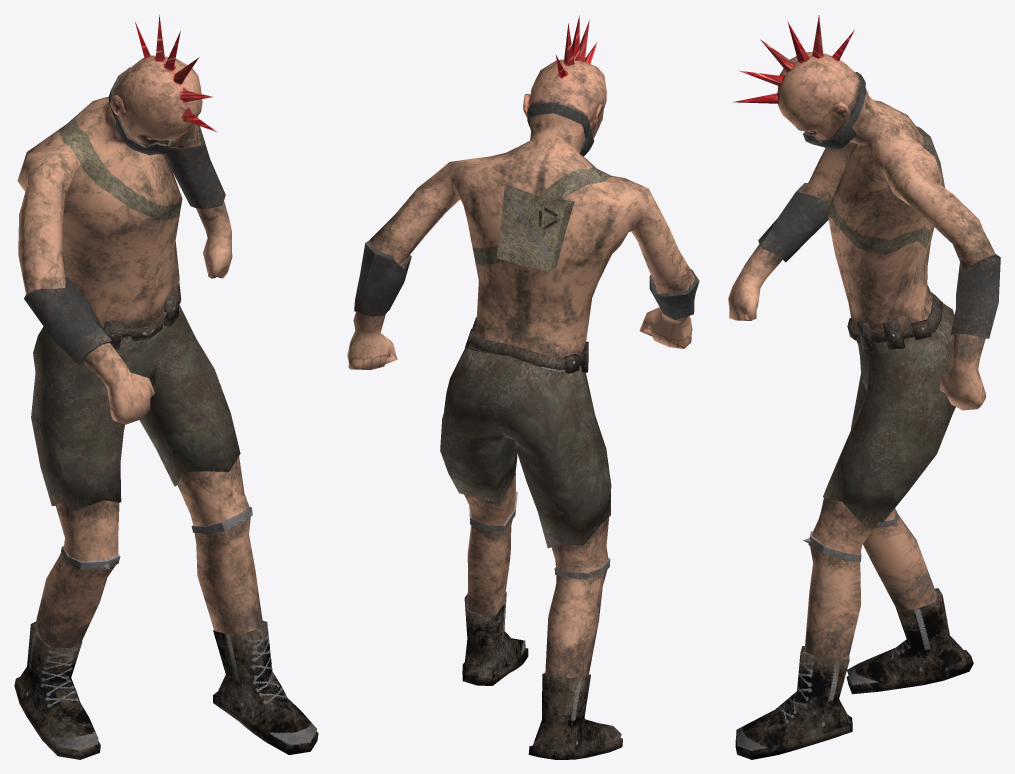
File: Anim_cogerobjeto_npc2.0034.obj
The picture shows the model from 3 angles, left to right: view 1: azimuth 30°, elevation 25°; view 2: azimuth 150°, elevation 25°; view 3: azimuth 270°, elevation 25°; orthographic projection. The views are drawn at different scales.
Visible parts, largest first — view 1: polySurface1; view 2: polySurface1; view 3: polySurface1.
Boxes of the visible parts, x1,y1,x2,y2 form: polySurface1: (14,14,318,759); polySurface1: (347,15,699,759); polySurface1: (728,15,1000,759).
Size of the model in its own units: 3.98 by 9.72 by 3.43.
